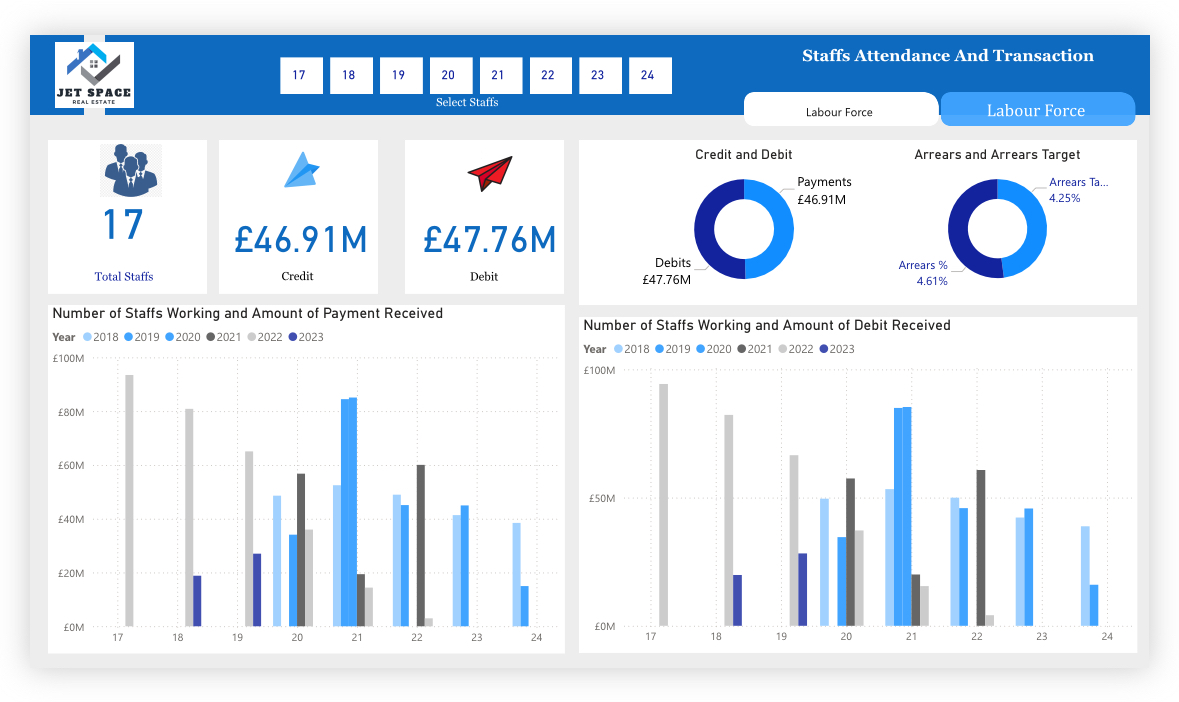

The page's visual inventory and layout, read from the dashboard file:
{"tool":"powerbi","page":{"name":"Labour Force","canvas":[1280,720],"ordinal":1},"visuals":[{"type":"shape","box":[19,120.1,182,176.1],"z":0},{"type":"shape","box":[217.7,120.1,182,176.1],"z":1000},{"type":"shape","box":[626.9,120.1,638.8,189.1],"z":2000},{"type":"shape","box":[428.3,120.1,182,176.1],"z":3000},{"type":"shape","box":[84.5,0,1195.5,91.6],"z":4000},{"type":"textbox","box":[877.9,8.3,372.3,48.8],"z":5000},{"type":"pageNavigator","box":[816.1,66.6,449.7,39.3],"z":6000},{"type":"clusteredColumnChart","title":"Number of Staffs Working and Amount of Payment  Received","fields":{"Category":["Question 1.Staff working on arrears","Question 1.Year1.Variation.Date Hierarchy.Year","Question 1.Year1.Variation.Date Hierarchy.Quarter","Question 1.Year1.Variation.Date Hierarchy.Month","Question 1.Year1.Variation.Date Hierarchy.Day"],"Y":["Avg(Question 1.Sum of Payments received FYTD)"],"Series":["Question 1.Year1.Variation.Date Hierarchy.Year"]},"box":[19,309.3,591.2,398.5],"z":7000},{"type":"clusteredColumnChart","title":"Number of Staffs Working and Amount of Debit Received","fields":{"Category":["Question 1.Staff working on arrears","Question 1.Year1.Variation.Date Hierarchy.Year","Question 1.Year1.Variation.Date Hierarchy.Quarter","Question 1.Year1.Variation.Date Hierarchy.Month","Question 1.Year1.Variation.Date Hierarchy.Day"],"Series":["Question 1.Year1.Variation.Date Hierarchy.Year"],"Y":["Avg(Question 1.Rents Debits)"]},"box":[626.9,323.6,638.8,384.2],"z":8000},{"type":"donutChart","title":"Credit and Debit","fields":{"Y":["Avg(Question 1.Payments received )","Avg(Question 1.Rents Debits)"]},"box":[678.1,126.1,274.8,174.9],"z":9000},{"type":"cardVisual","fields":{"Data":["Min(Question 1.Staff working on arrears)"]},"box":[61.9,168.9,94,92.8],"z":10000},{"type":"textbox","box":[34.5,261.7,149.9,40.4],"z":11000},{"type":"advancedSlicerVisual","fields":{"Values":["Question 1.Staff working on arrears"]},"box":[280.7,19,460.4,52.3],"z":12000},{"type":"textbox","box":[434.2,57.1,133.2,34.5],"z":13000},{"type":"card","fields":{"Values":["Avg(Question 1.Payments received )"]},"box":[208.2,177.2,202.2,98.7],"z":14000},{"type":"card","fields":{"Values":["Avg(Question 1.Rents Debits)"]},"box":[424.7,177.2,202.2,98.7],"z":15000},{"type":"textbox","box":[234.3,255.8,149.9,40.4],"z":16000},{"type":"textbox","box":[444.9,261.7,149.9,40.4],"z":17000},{"type":"image","box":[72.6,120.1,86.8,70.2],"z":18000},{"type":"image","box":[280.7,122.5,59.5,60.7],"z":19000},{"type":"image","box":[483,126.1,84.5,64.2],"z":20000},{"type":"donutChart","title":"Arrears and Arrears Target","fields":{"Y":["Avg(Question 1.Arrears Target )","Avg(Question 1.Arrears %)"]},"box":[971.9,128.5,271.2,173.7],"z":21000},{"type":"shape","box":[0,0,61.9,91.6],"z":22000},{"type":"image","box":[22.6,0,99.9,91.6],"z":23000}]}

Visuals, with their boxes on the page's 1280x720 design canvas (x1, y1, x2, y2). These are canvas units, not pixel positions in the 1179x702 screenshot, which may show the page scaled, cropped or inside an application window:
shape: [left=19, top=120, right=201, bottom=296]
shape: [left=218, top=120, right=400, bottom=296]
shape: [left=627, top=120, right=1266, bottom=309]
shape: [left=428, top=120, right=610, bottom=296]
shape: [left=84, top=0, right=1280, bottom=92]
textbox: [left=878, top=8, right=1250, bottom=57]
pageNavigator: [left=816, top=67, right=1266, bottom=106]
"Number of Staffs Working and Amount of Payment  Received" clusteredColumnChart: [left=19, top=309, right=610, bottom=708]
"Number of Staffs Working and Amount of Debit Received" clusteredColumnChart: [left=627, top=324, right=1266, bottom=708]
"Credit and Debit" donutChart: [left=678, top=126, right=953, bottom=301]
cardVisual - Min(Question 1.Staff working on arrears): [left=62, top=169, right=156, bottom=262]
textbox: [left=34, top=262, right=184, bottom=302]
advancedSlicerVisual - Question 1.Staff working on arrears: [left=281, top=19, right=741, bottom=71]
textbox: [left=434, top=57, right=567, bottom=92]
card - Avg(Question 1.Payments received ): [left=208, top=177, right=410, bottom=276]
card - Avg(Question 1.Rents Debits): [left=425, top=177, right=627, bottom=276]
textbox: [left=234, top=256, right=384, bottom=296]
textbox: [left=445, top=262, right=595, bottom=302]
image: [left=73, top=120, right=159, bottom=190]
image: [left=281, top=122, right=340, bottom=183]
image: [left=483, top=126, right=568, bottom=190]
"Arrears and Arrears Target" donutChart: [left=972, top=128, right=1243, bottom=302]
shape: [left=0, top=0, right=62, bottom=92]
image: [left=23, top=0, right=122, bottom=92]
